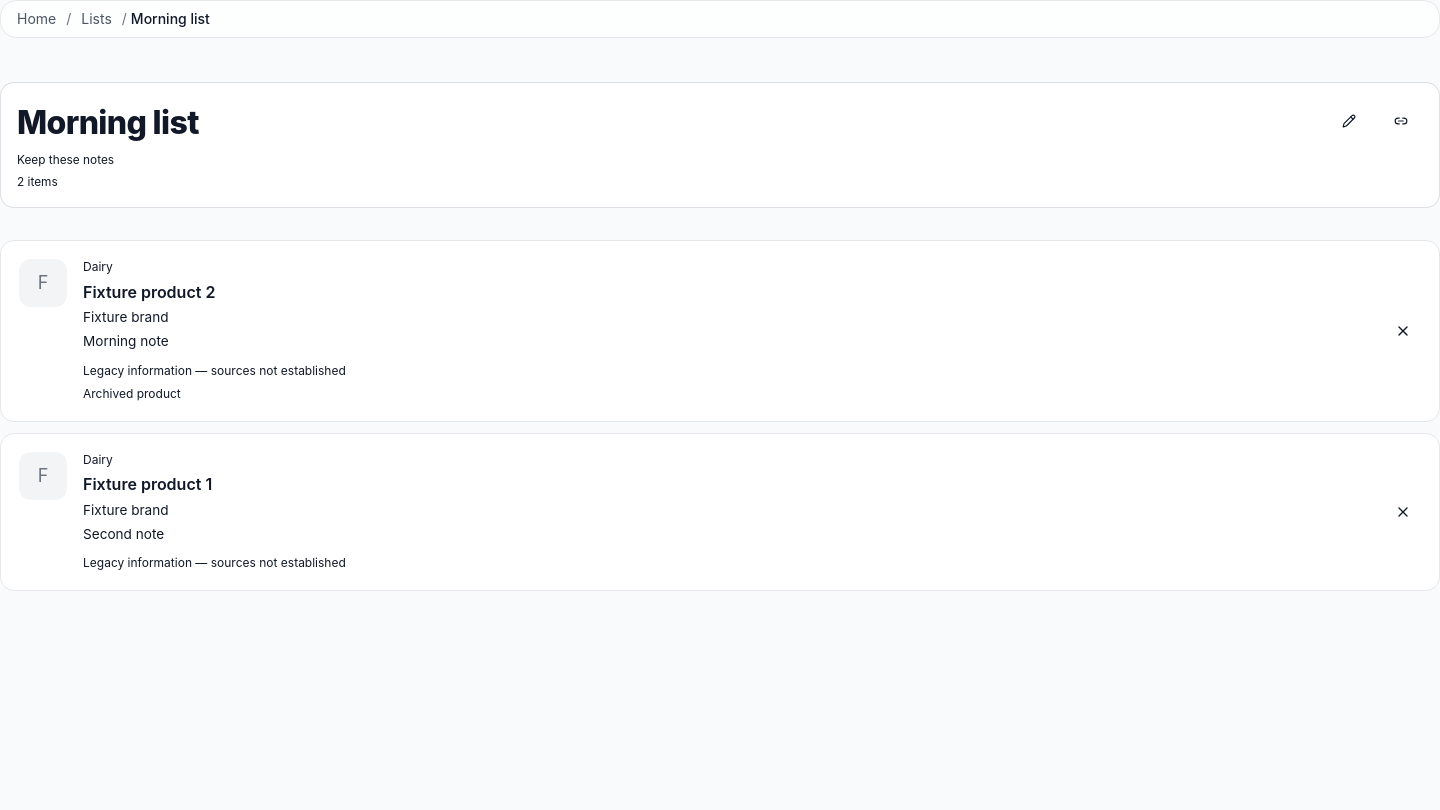
Test: evidence-first saved list › refreshes the same membership key only after successful removal
The image size is (1440, 810).
Expected: the heading "Morning list" is shown, [17, 99, 199, 147]
Click the button named "Remove from list Fixture product 2" at [1403, 331], box [1381, 309, 1425, 353]
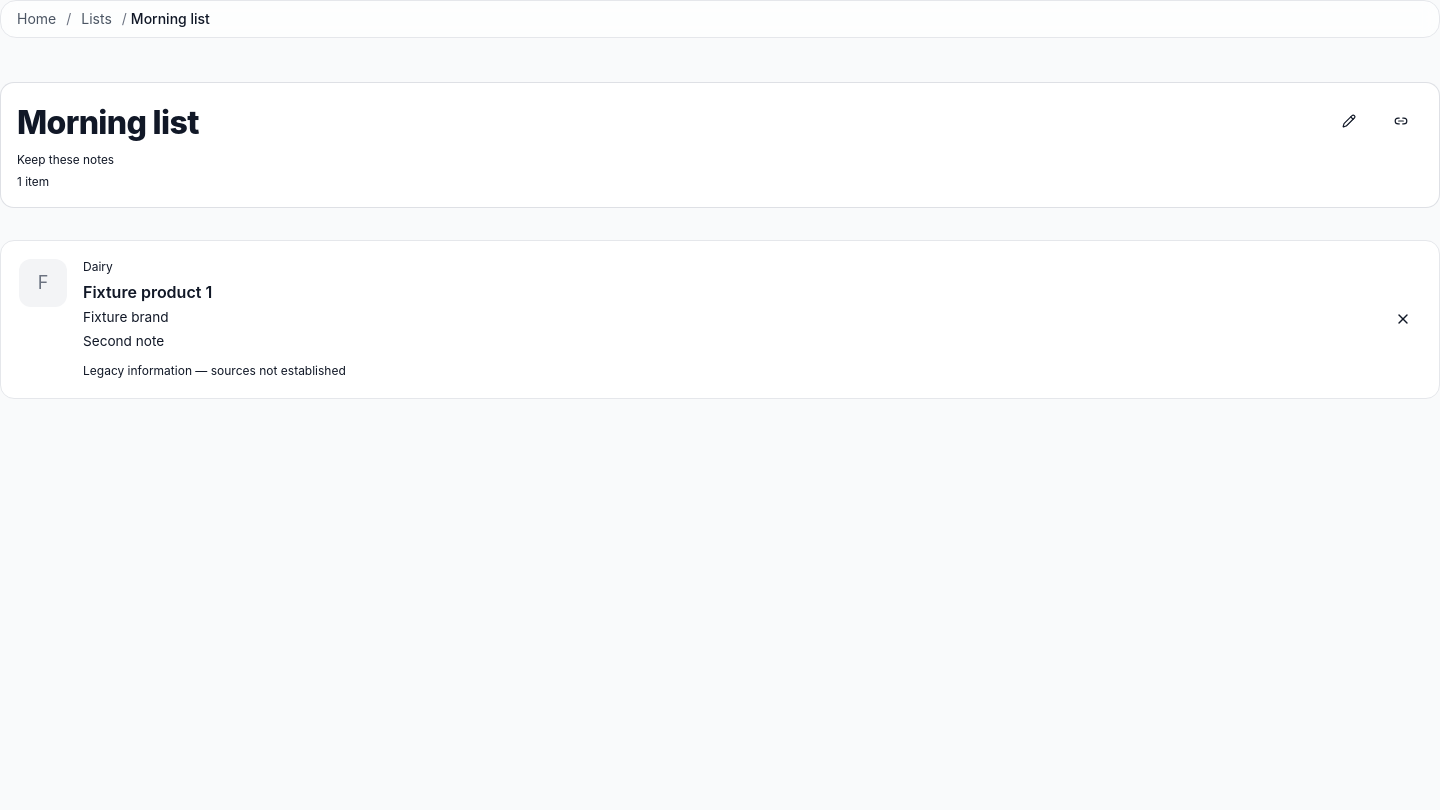
Expected: the text "Second note" is shown, [83, 333, 164, 349]
Result: the number of list items with test id "product-register-card" is 1 at [0, 240, 1439, 399]
